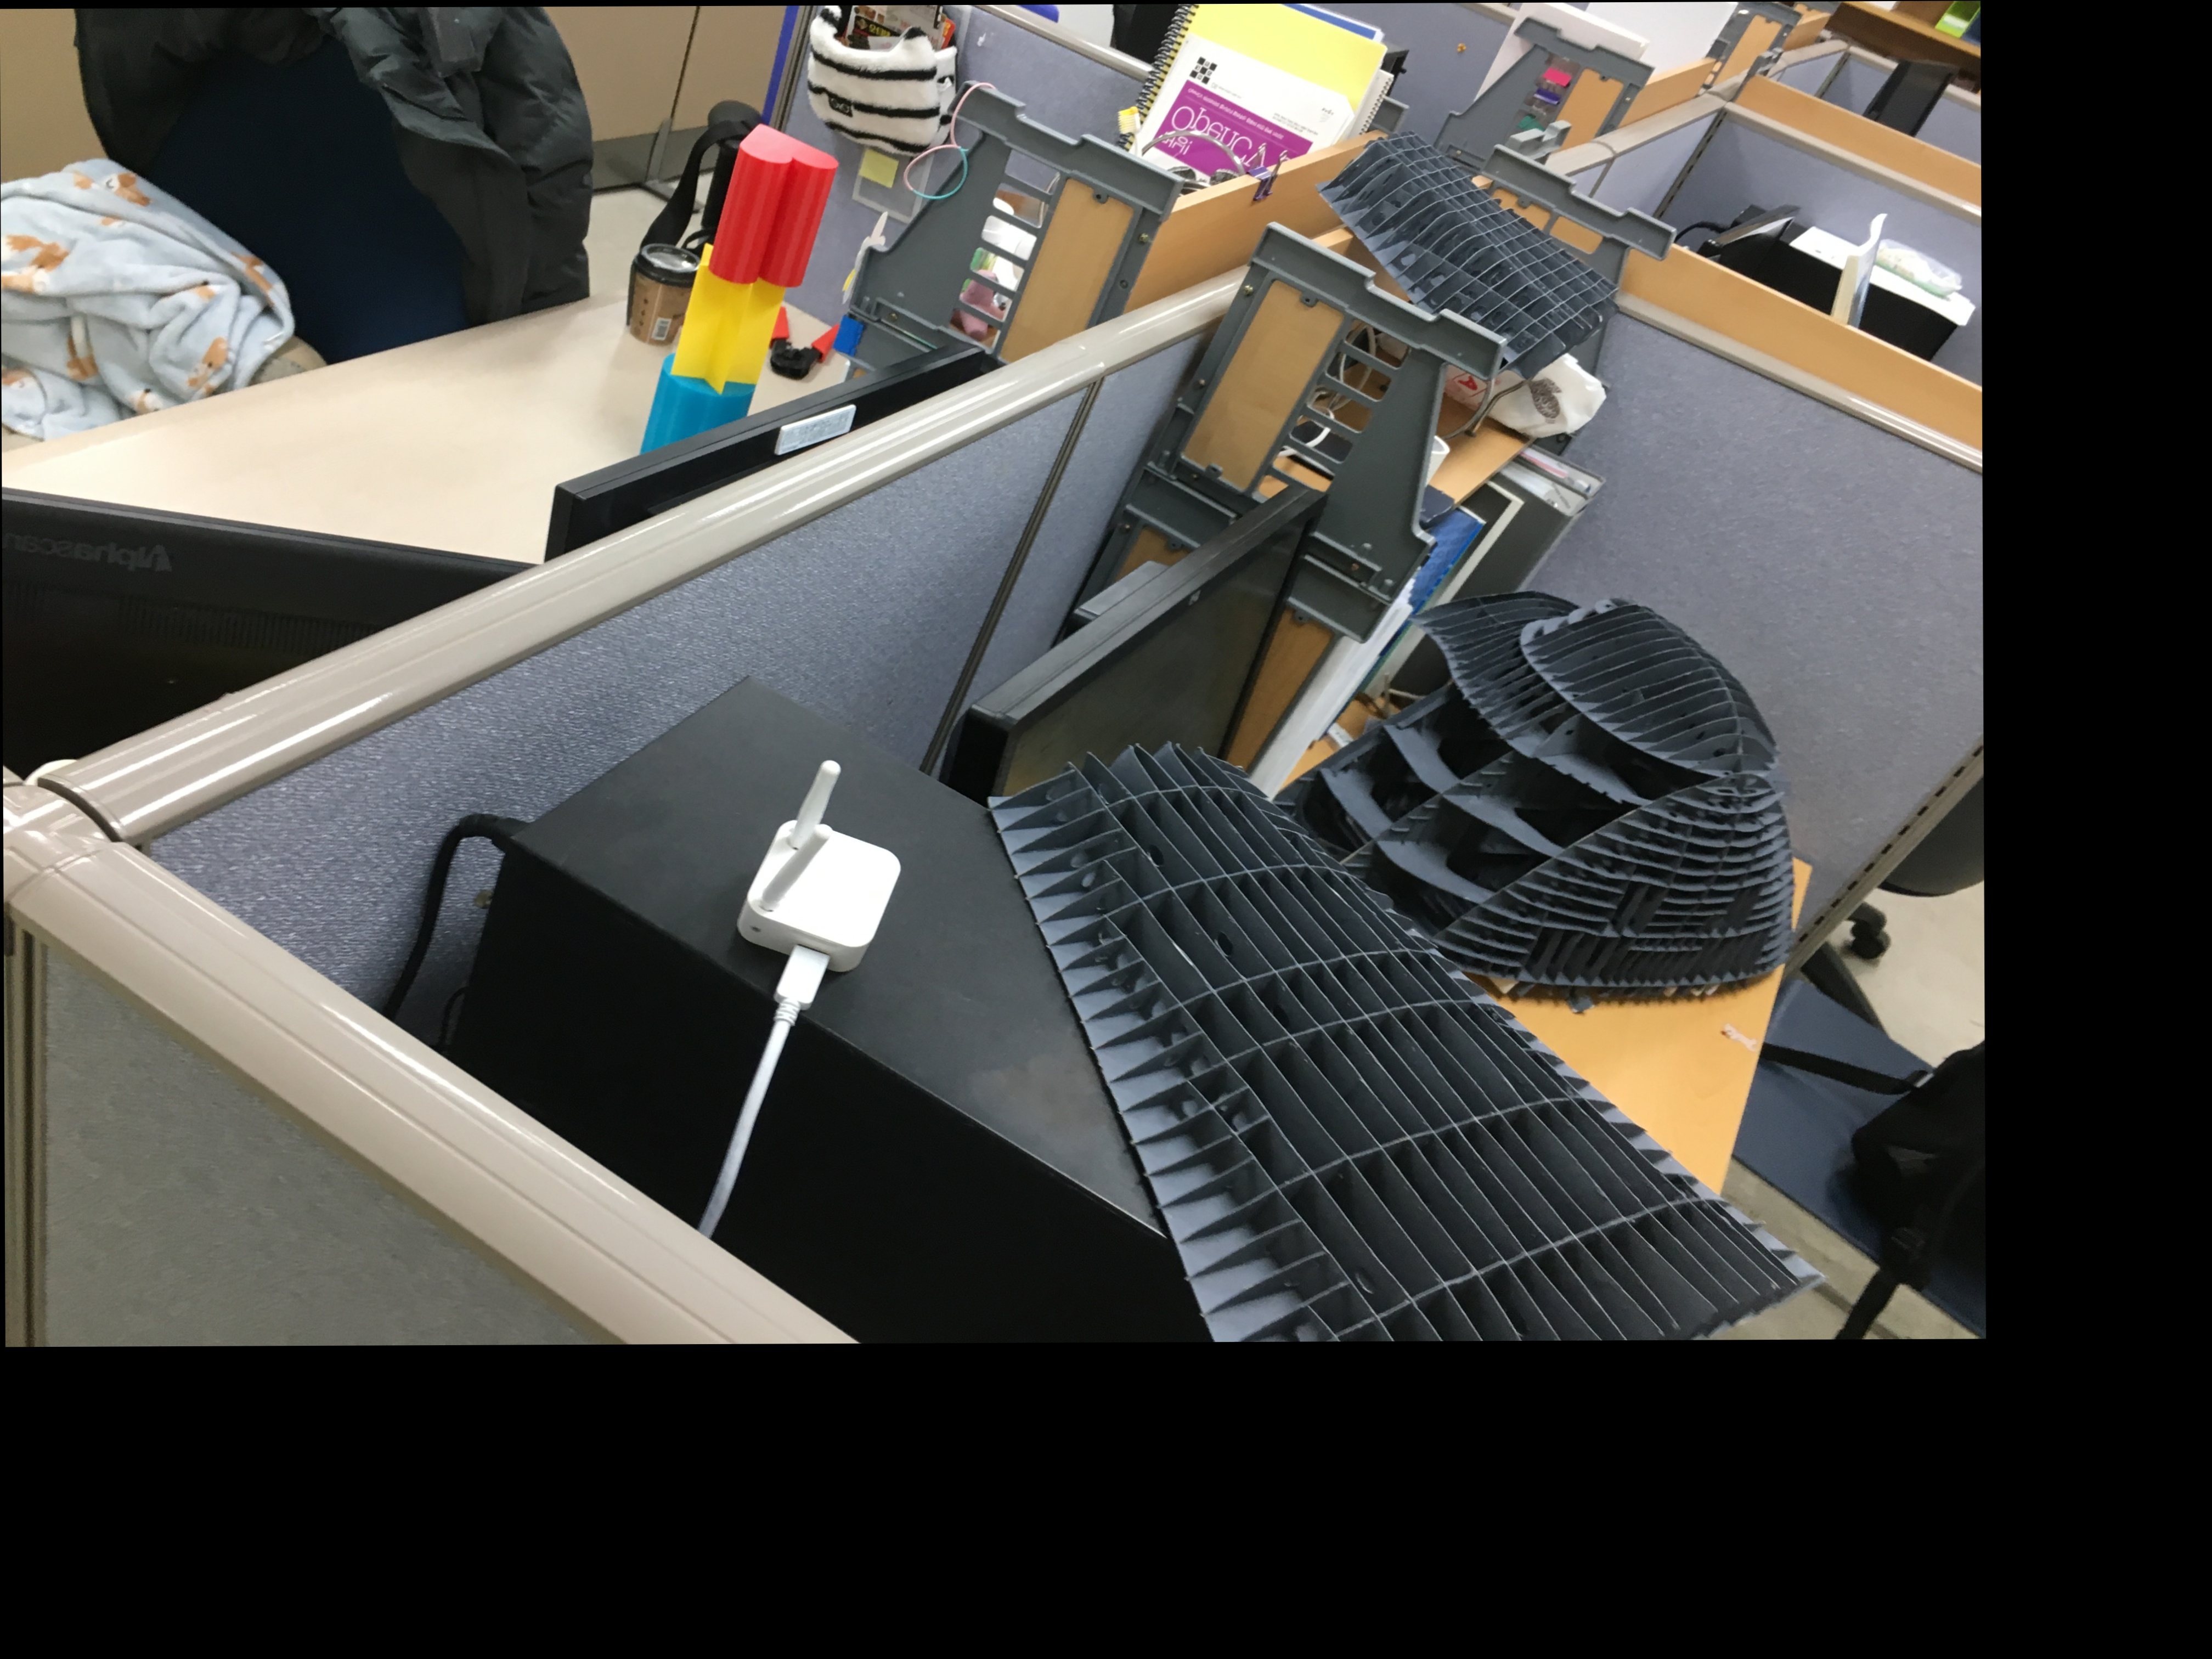A: (1313, 132, 1641, 375)
B: (972, 697, 1730, 1342)
D: (1244, 544, 1827, 1014)
